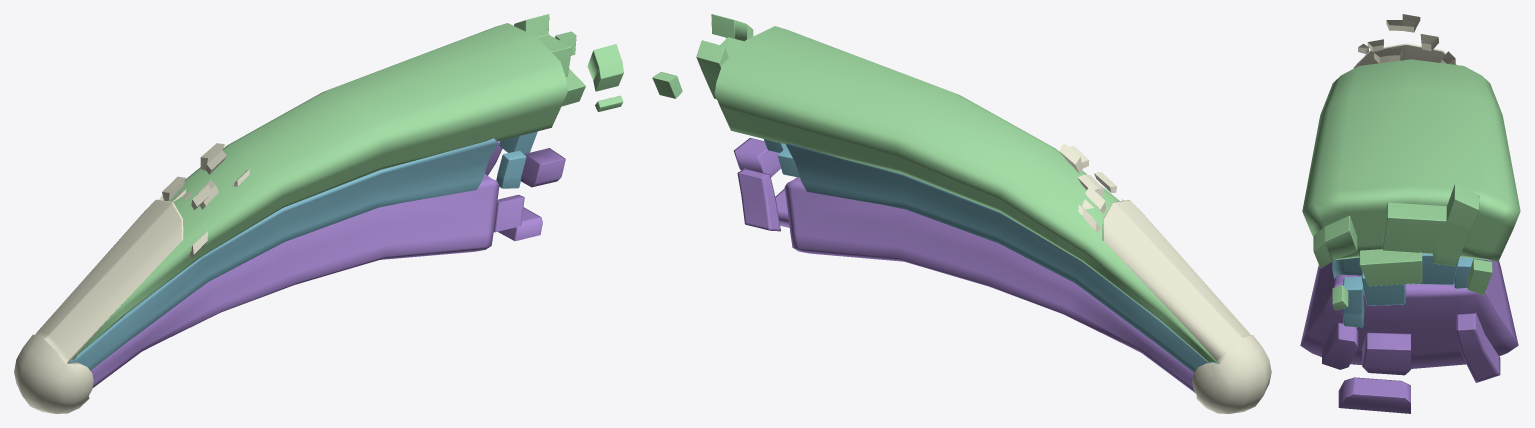
The model's file is colPic_Mod.fbx.
The picture shows the model from 3 angles, left to right: view 1: azimuth 30°, elevation 25°; view 2: azimuth 150°, elevation 25°; view 3: azimuth 270°, elevation 25°; orthographic projection. The views are drawn at different scales.
Parts seen in each view (by area): view 1: colorPicker_up_grn_mod, colorPicer_bot_prpl_mod, colorPicker_mid_blue_mod, ColorPicker_head_mod; view 2: colorPicker_up_grn_mod, colorPicer_bot_prpl_mod, ColorPicker_head_mod, colorPicker_mid_blue_mod; view 3: colorPicker_up_grn_mod, colorPicer_bot_prpl_mod, colorPicker_mid_blue_mod, ColorPicker_head_mod.
Part boxes in pixels (left/top/right/bottom): colorPicker_up_grn_mod: left=72, top=14, right=623, bottom=359; colorPicer_bot_prpl_mod: left=90, top=141, right=565, bottom=387; colorPicker_mid_blue_mod: left=68, top=131, right=537, bottom=370; ColorPicker_head_mod: left=14, top=143, right=249, bottom=413; colorPicker_up_grn_mod: left=652, top=14, right=1218, bottom=363; colorPicer_bot_prpl_mod: left=733, top=138, right=1194, bottom=392; ColorPicker_head_mod: left=1059, top=143, right=1271, bottom=413; colorPicker_mid_blue_mod: left=763, top=139, right=1217, bottom=372; colorPicker_up_grn_mod: left=1302, top=59, right=1520, bottom=310; colorPicer_bot_prpl_mod: left=1300, top=260, right=1518, bottom=413; colorPicker_mid_blue_mod: left=1332, top=253, right=1486, bottom=327; ColorPicker_head_mod: left=1353, top=14, right=1456, bottom=68.
Bounding box in the file's own units: 44.39 × 18.89 × 10.6.
